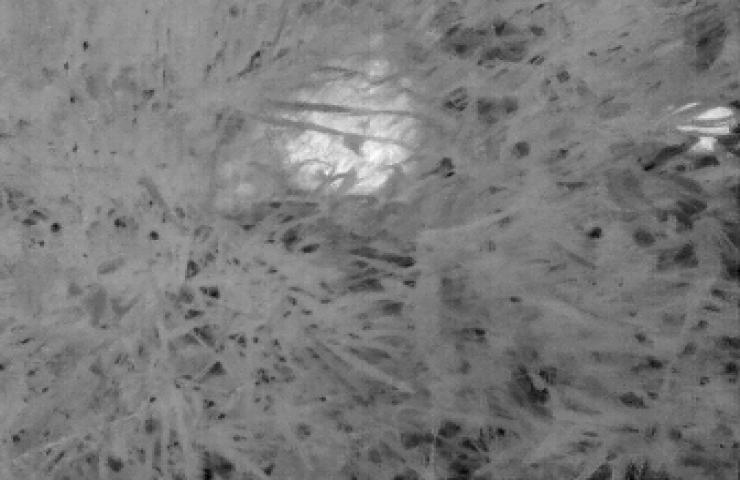landmines: (284, 59, 421, 205)
